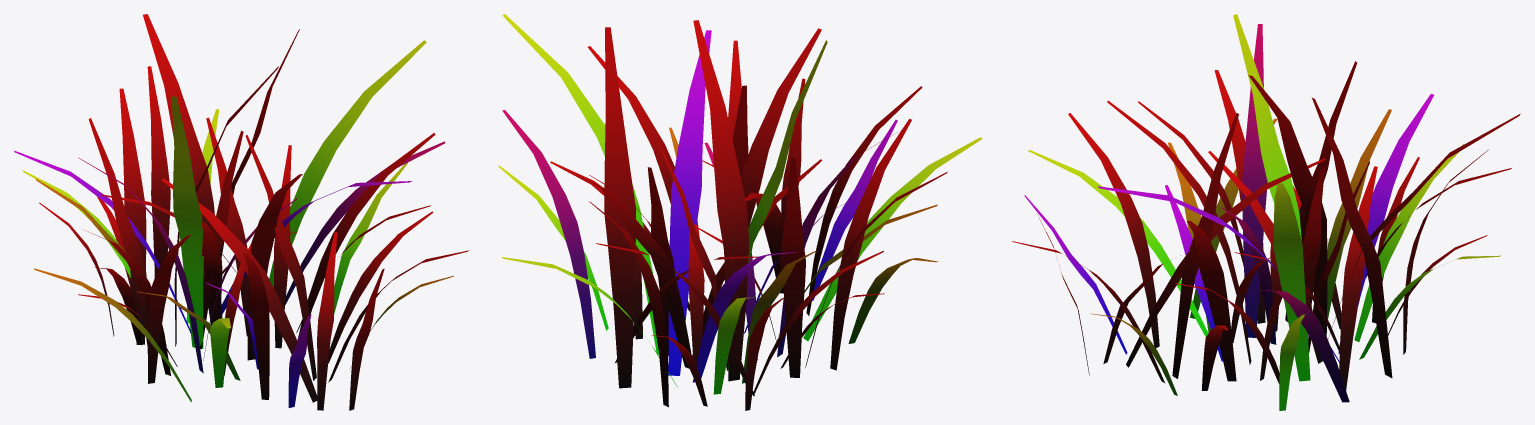
The model's file is Grass_HP_var2.fbx.
The picture shows the model from 3 angles, left to right: view 1: azimuth 30°, elevation 25°; view 2: azimuth 150°, elevation 25°; view 3: azimuth 270°, elevation 25°; orthographic projection. The views are drawn at different scales.
Visible parts, largest first — view 1: Grass_var2_LOD0; view 2: Grass_var2_LOD0; view 3: Grass_var2_LOD0.
Boxes of the visible parts, box(x1,y1,x2,y2) form: Grass_var2_LOD0: box(14, 14, 468, 410); Grass_var2_LOD0: box(498, 14, 982, 410); Grass_var2_LOD0: box(1012, 14, 1520, 410).
Size of what is drawn, in the model's own units: 1.42 by 0.9744 by 1.47.
